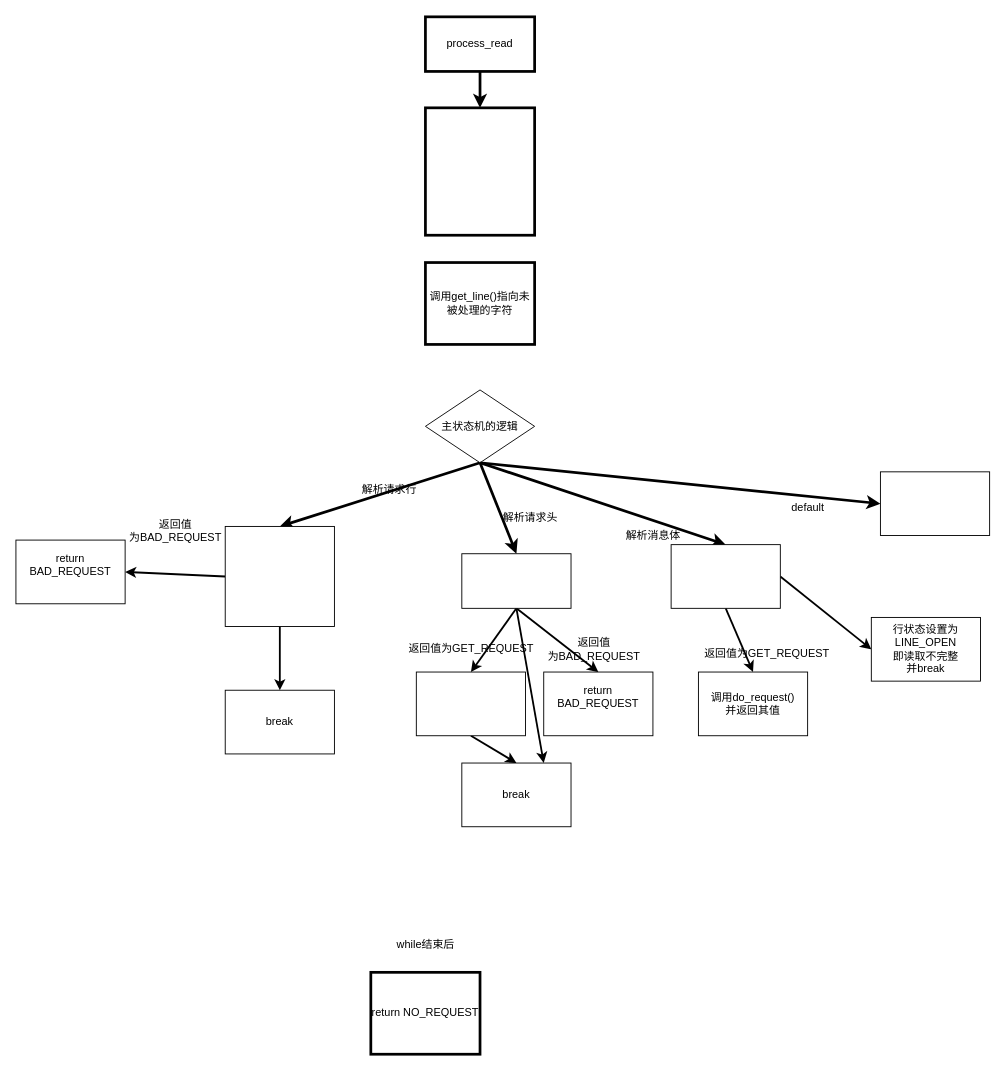
The diagram is 1006 pixels wide and 1071 high, and some of its shapes have lost their labels. Each missing label, with the centre of its shape:
do_requst(): (x=470, y=703)
return INTERNAL_ERROR; 即服务器内部错误: (x=935, y=503)
while循环条件:主状态机为解析消息体并且完整读取一行 或者 成功读取报文: (x=480, y=171)
调用parse_content(): (x=725, y=576)
调用parse_request_line(), 如果正常的话,会让逻辑会变成解析请求头: (x=279, y=576)
